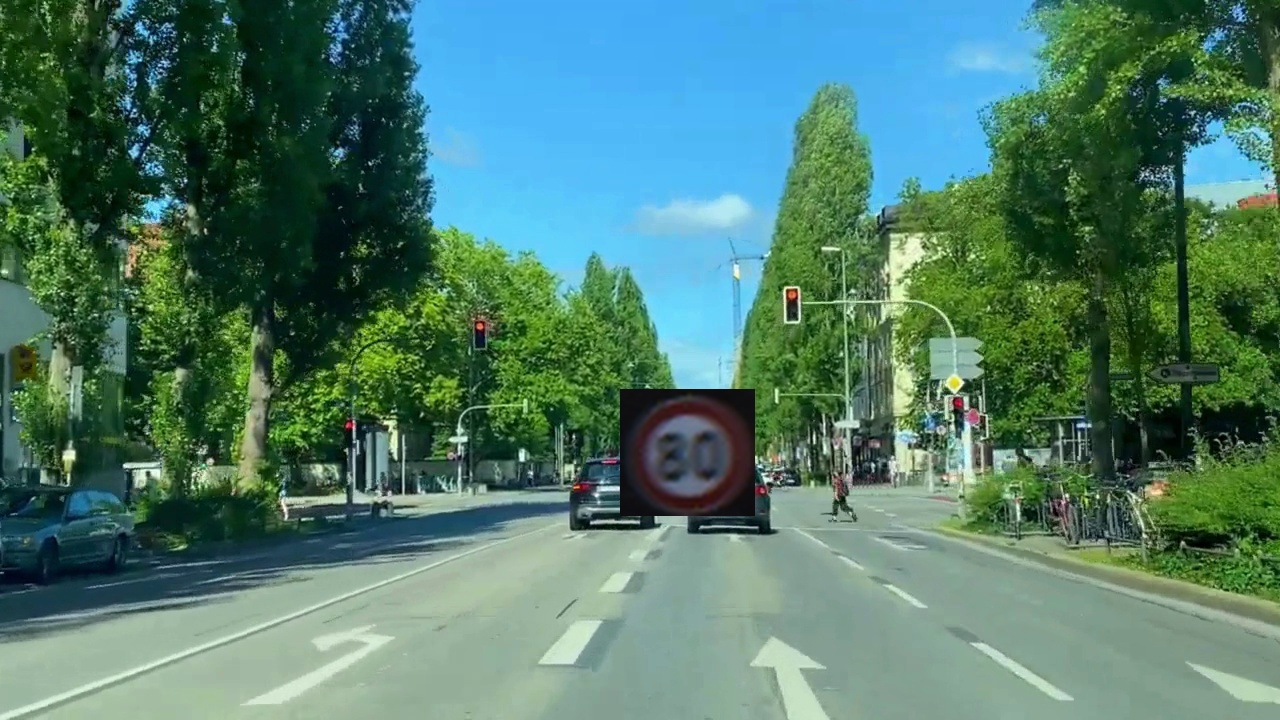Speed 80: (620, 389, 755, 516)
